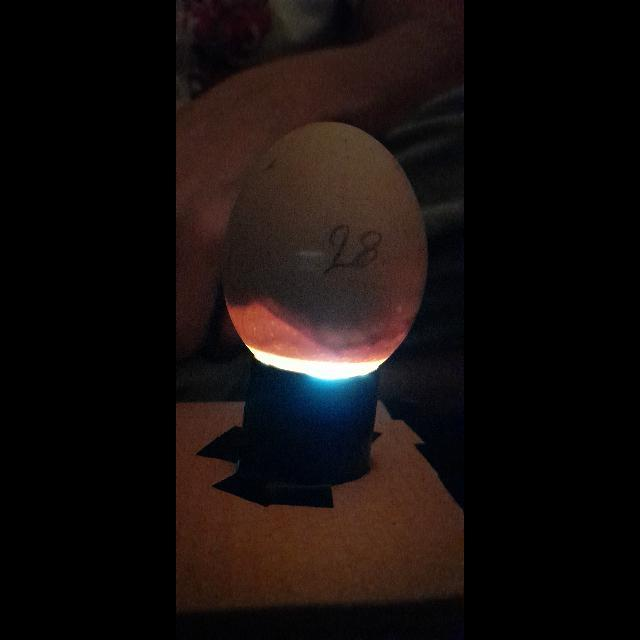Fertile: (225, 116, 423, 380)
